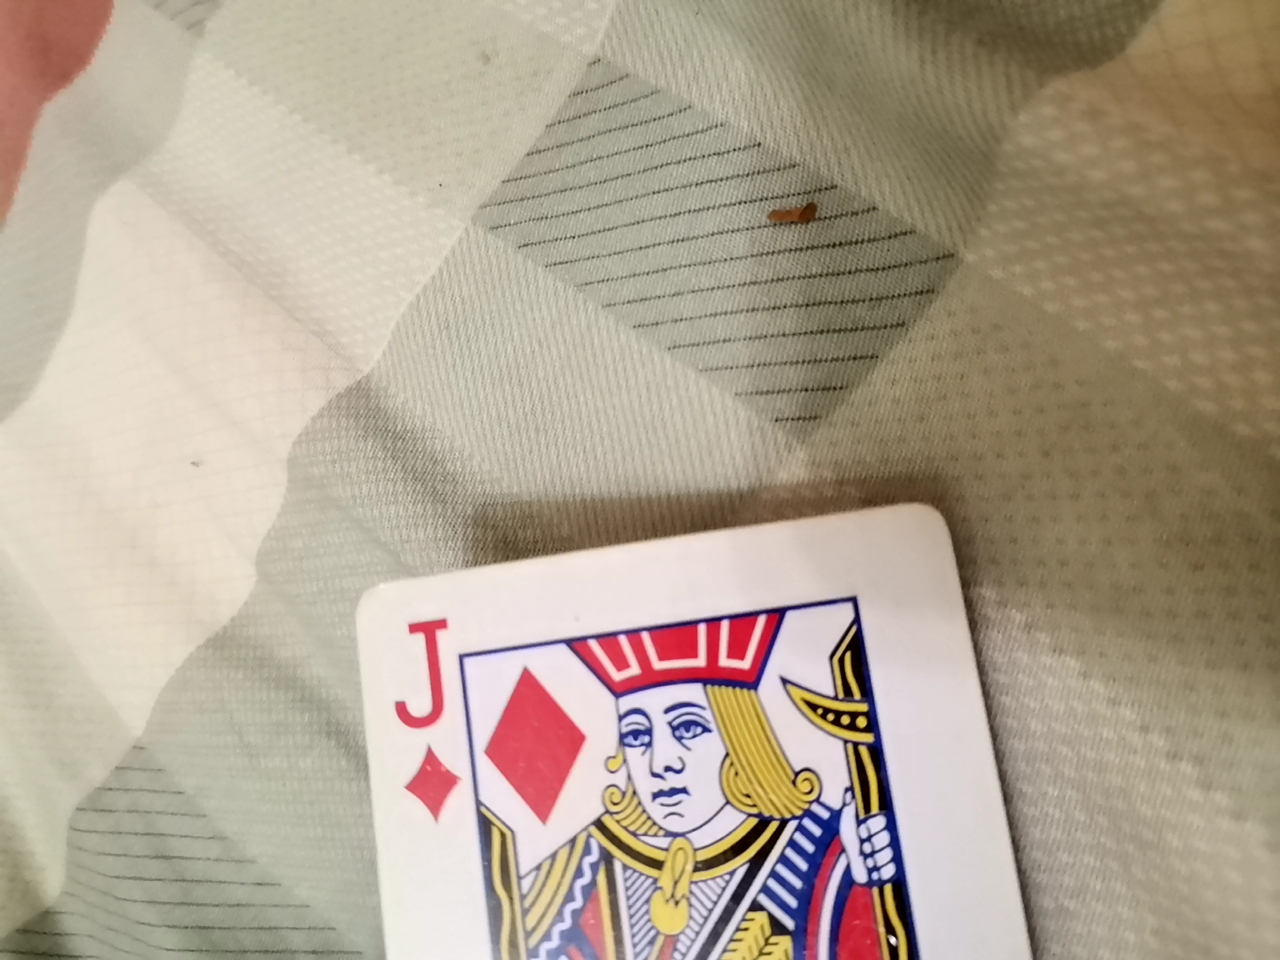fk j: (332, 502, 1098, 949)
